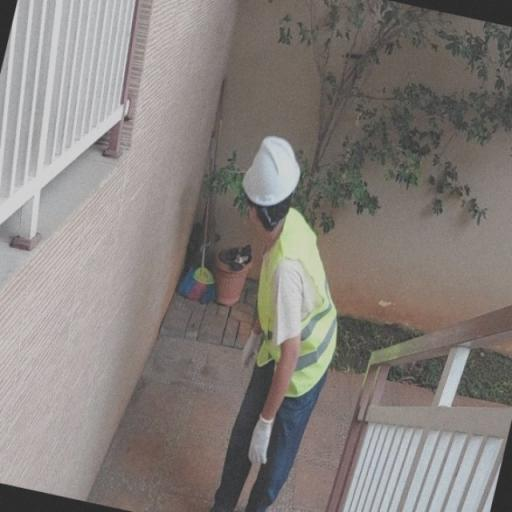Person: (220, 105, 380, 512)
gloves: (244, 417, 278, 472), (242, 330, 264, 368)
helmet: (242, 130, 306, 210)
vest: (249, 205, 339, 395)
